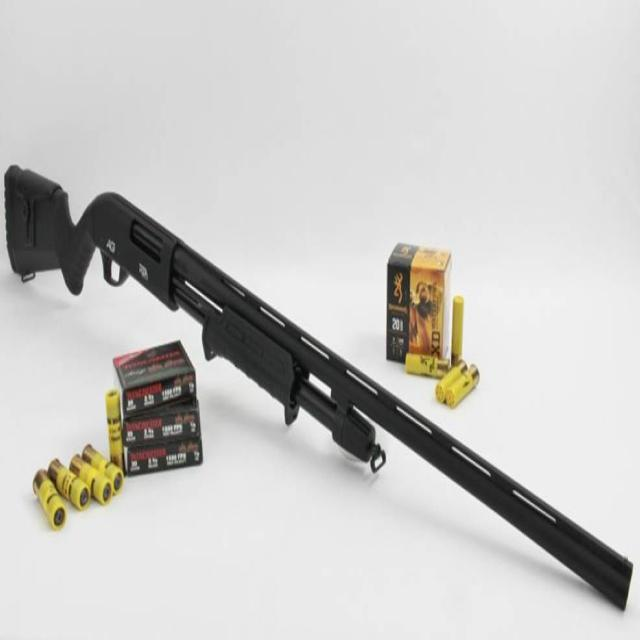ShotGun: (5, 168, 634, 613)
